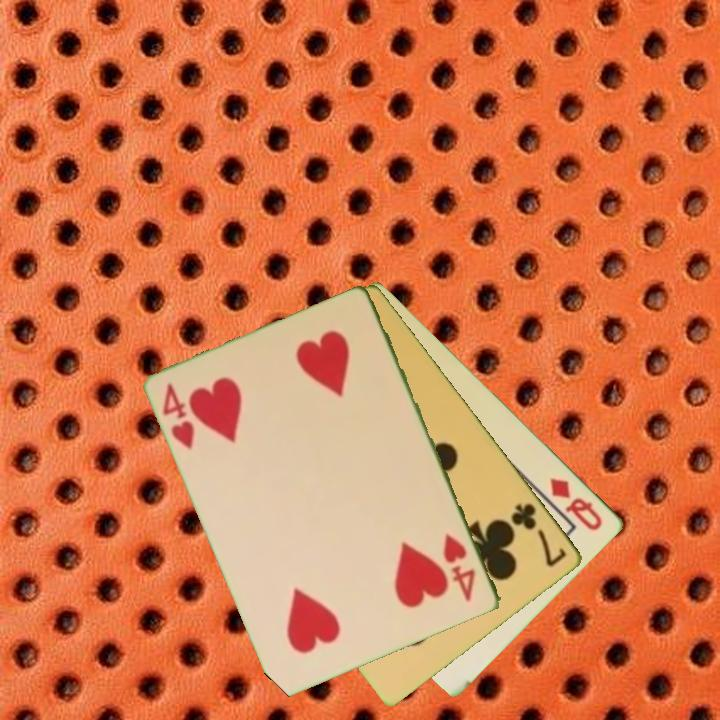4h: (440, 529, 479, 605), (159, 380, 198, 453)
7c: (508, 499, 570, 571)
Qd: (547, 474, 606, 534)
